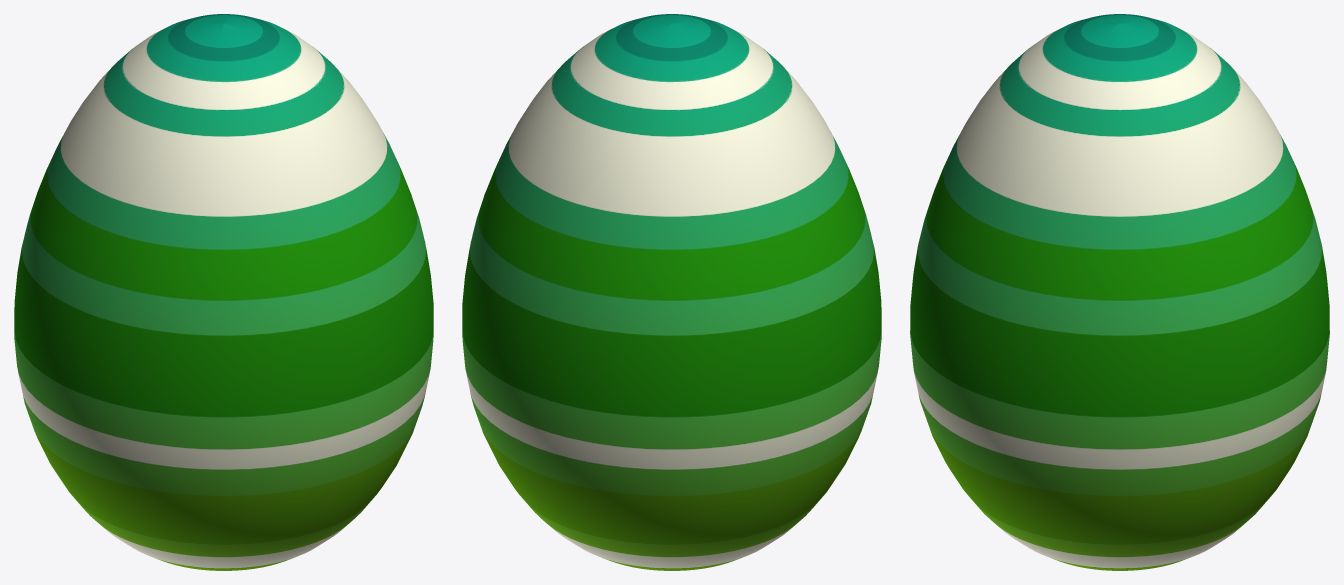
The model's file is egg-4.glb.
3 renders of one model, left to right at view 1: azimuth 30°, elevation 25°; view 2: azimuth 150°, elevation 25°; view 3: azimuth 270°, elevation 25°, orthographic.
Parts seen in each view (by area): view 1: Mesh_0; view 2: Mesh_0; view 3: Mesh_0.
Boxes of the visible parts, <box> form: Mesh_0: <box>14,14,433,570</box>; Mesh_0: <box>462,14,881,570</box>; Mesh_0: <box>910,14,1329,570</box>.
Bounding box in the file's own units: 1.74 × 2.42 × 1.74.
Materials: 1 (1 with a texture image).
